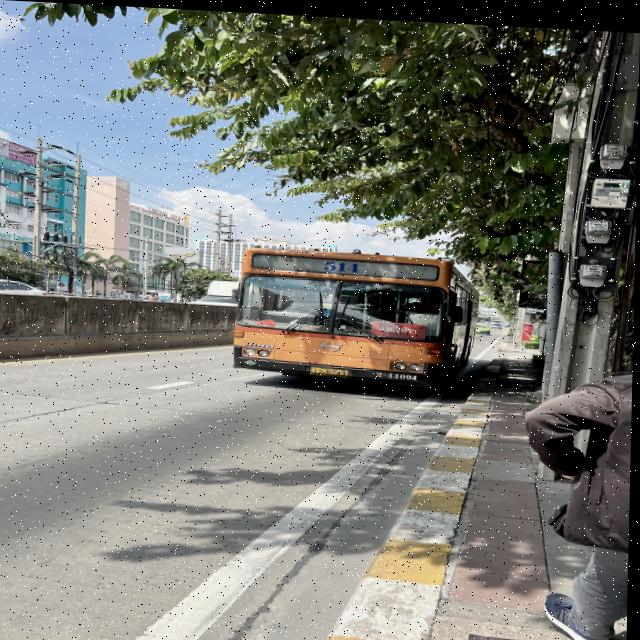BMTA-bus: (233, 240, 479, 392)
Bus-Line-Number: (319, 257, 366, 271)
Destination-Sign-Extra-Bus: (376, 317, 429, 335)
